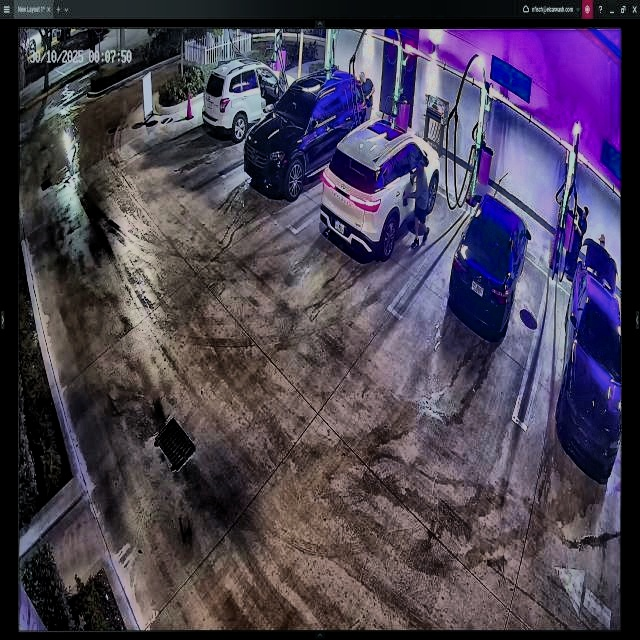Car: (319, 120, 441, 263), (246, 71, 368, 197), (448, 196, 530, 338)
